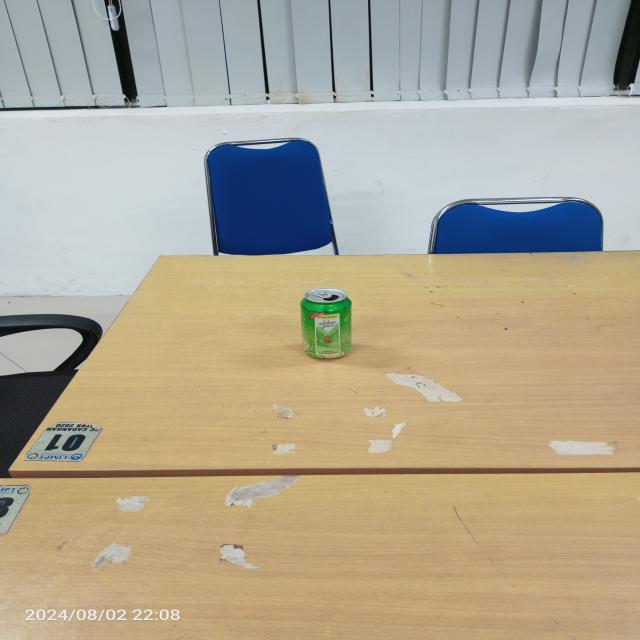ademsarikaleng: (298, 286, 352, 360)
